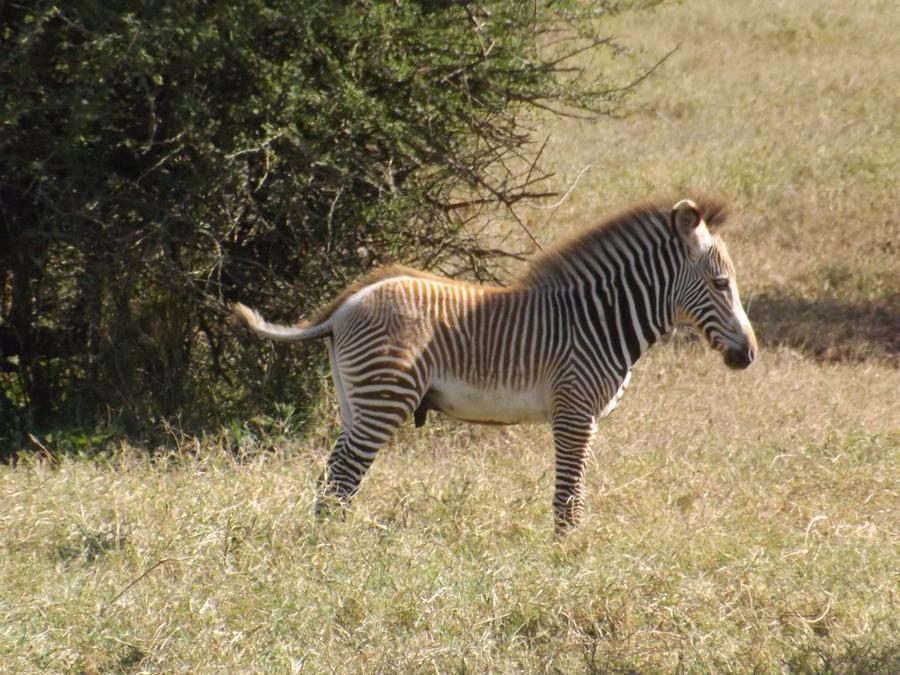zebra_grevys: (306, 247, 602, 433)
